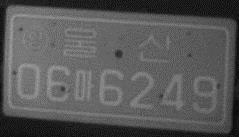0: (15, 62, 41, 100)
2: (127, 70, 156, 111)
4: (159, 72, 185, 112)
6: (45, 62, 71, 103), (98, 67, 124, 106)
9: (190, 74, 219, 115)
마: (74, 67, 95, 102)
영: (21, 24, 50, 55)
울산_D: (61, 24, 173, 64)
